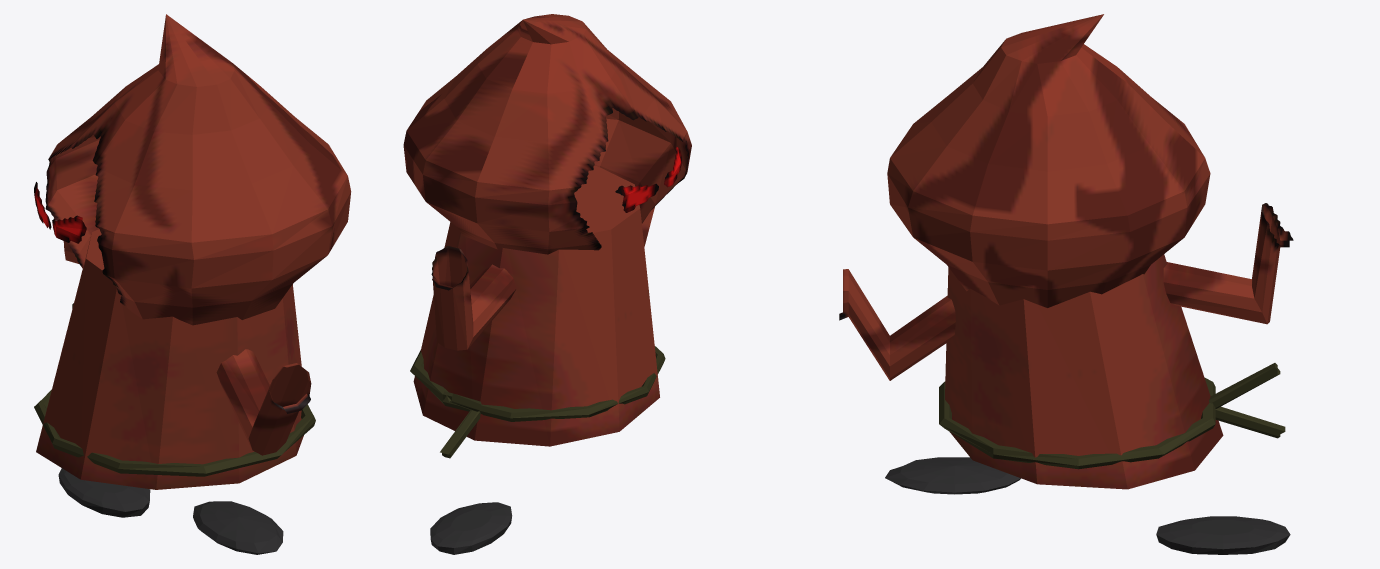
Rendered from Enemy2.glb.
The picture shows the model from 3 angles, left to right: view 1: azimuth 30°, elevation 25°; view 2: azimuth 150°, elevation 25°; view 3: azimuth 270°, elevation 25°; orthographic projection. The views are drawn at different scales.
Parts seen in each view (by area): view 1: Enemy2; view 2: Enemy2; view 3: Enemy2.
Part boxes in pixels (x1=…): Enemy2: x1=34, y1=14, x2=351, y2=554; Enemy2: x1=403, y1=14, x2=691, y2=554; Enemy2: x1=839, y1=14, x2=1293, y2=554.
Size of the model in its own units: 280 by 513 by 549.
1 material, 1 textured.
